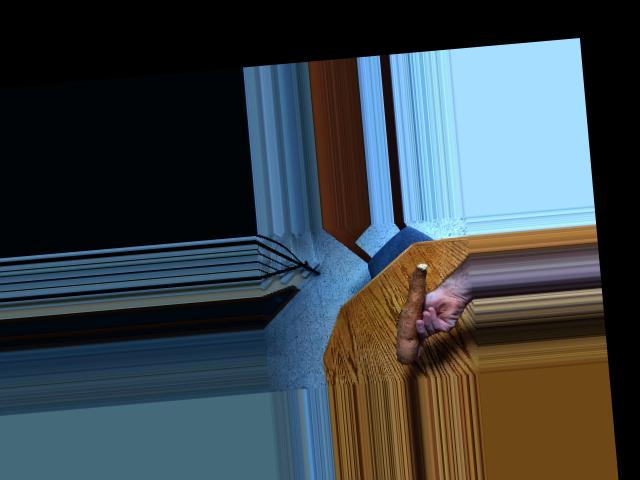sweet_potato: (387, 261, 439, 366)
